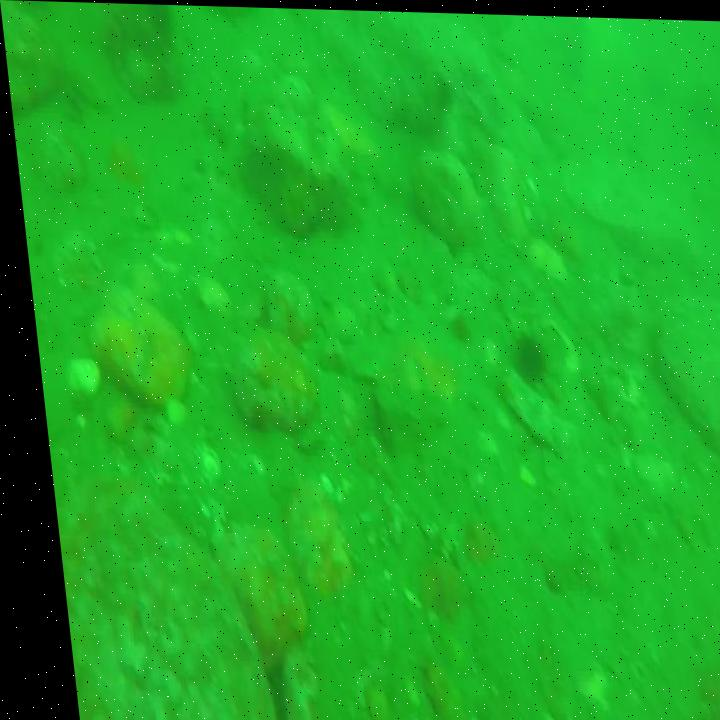echinus: (506, 329, 545, 382)
scallop: (522, 230, 564, 288), (55, 353, 97, 403), (187, 270, 224, 310), (190, 446, 214, 482), (153, 398, 181, 428)
